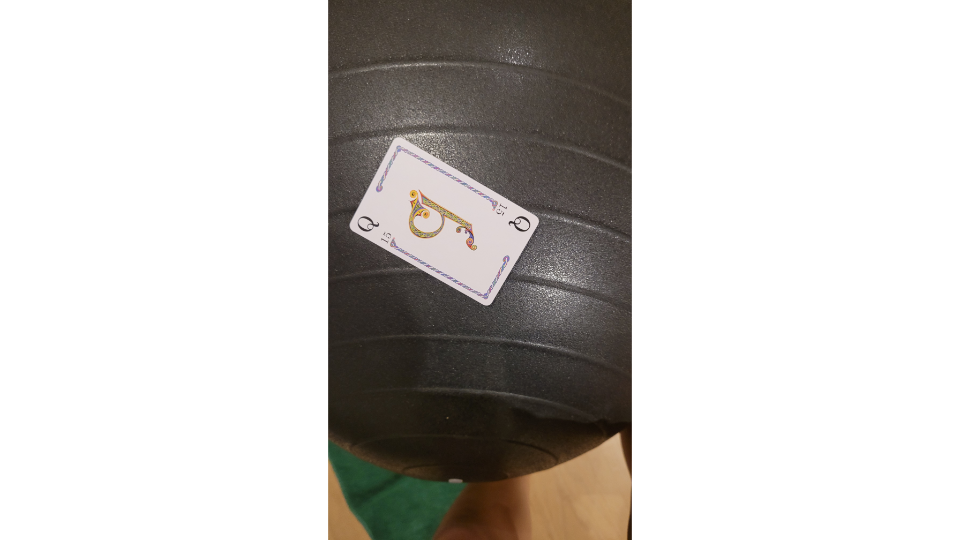Q: (346, 134, 541, 308)
